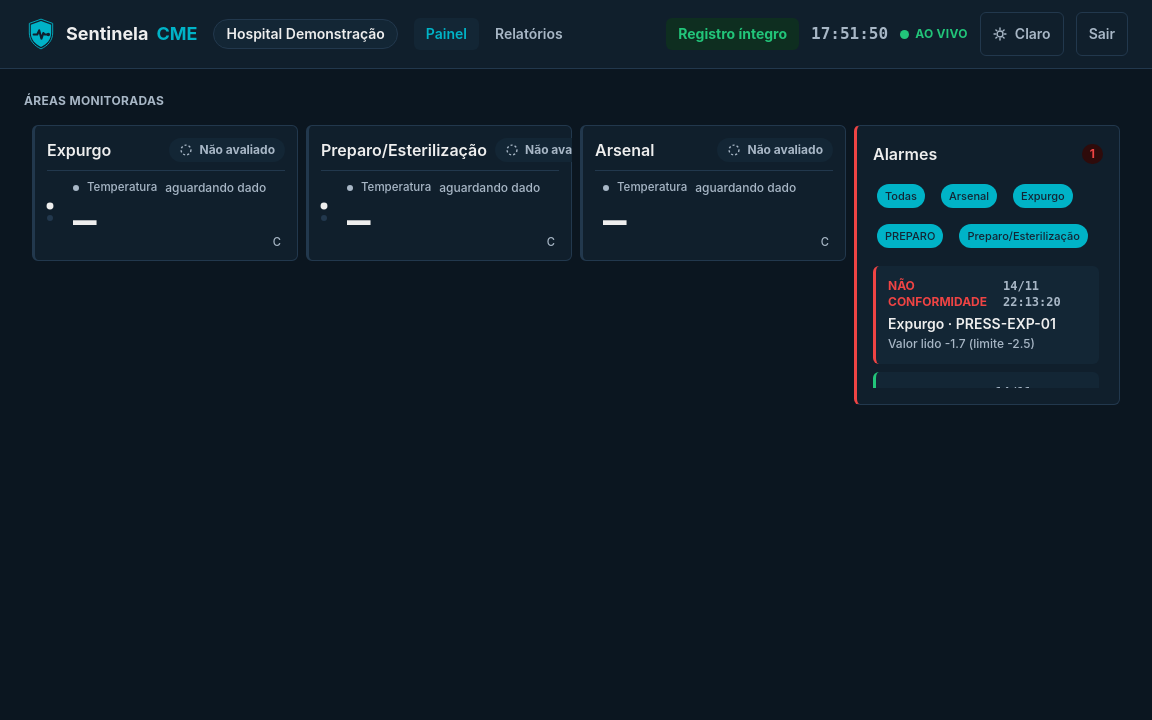
Scenario: DashboardPage › drill-down (D3) › botão de métrica dentro do painel troca o sensor exibido sem fechar o drawer
This screenshot has width=1152, height=720.
Click the text "Temperatura" at (175, 188), box [73,179,277,196]
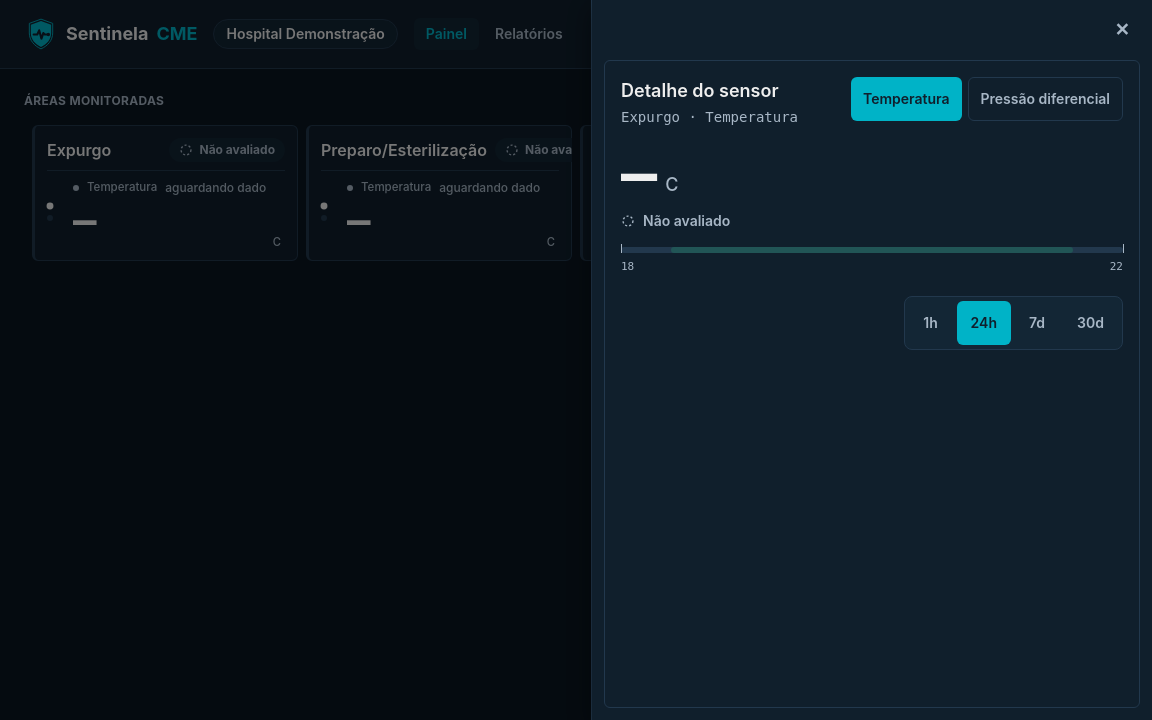
Result: the text "Expurgo · Temperatura" is shown at [621,107,798,127]
Click the button "Pressão diferencial" at (1045, 99), box [968,77,1123,121]
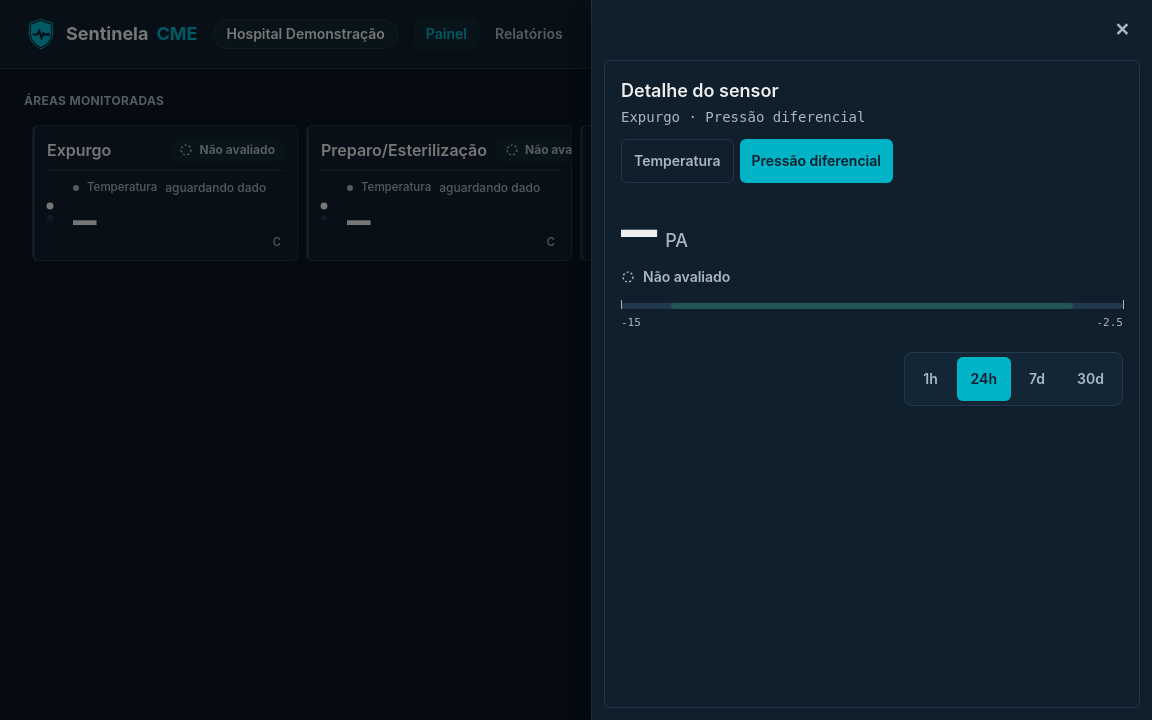
Result: the text "Expurgo · Pressão diferencial" is shown at [621,107,866,127]
